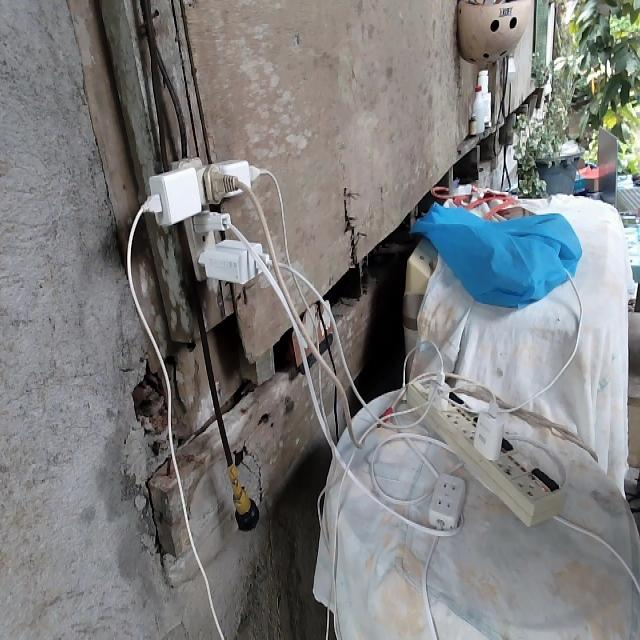-: (136, 147, 269, 284)
